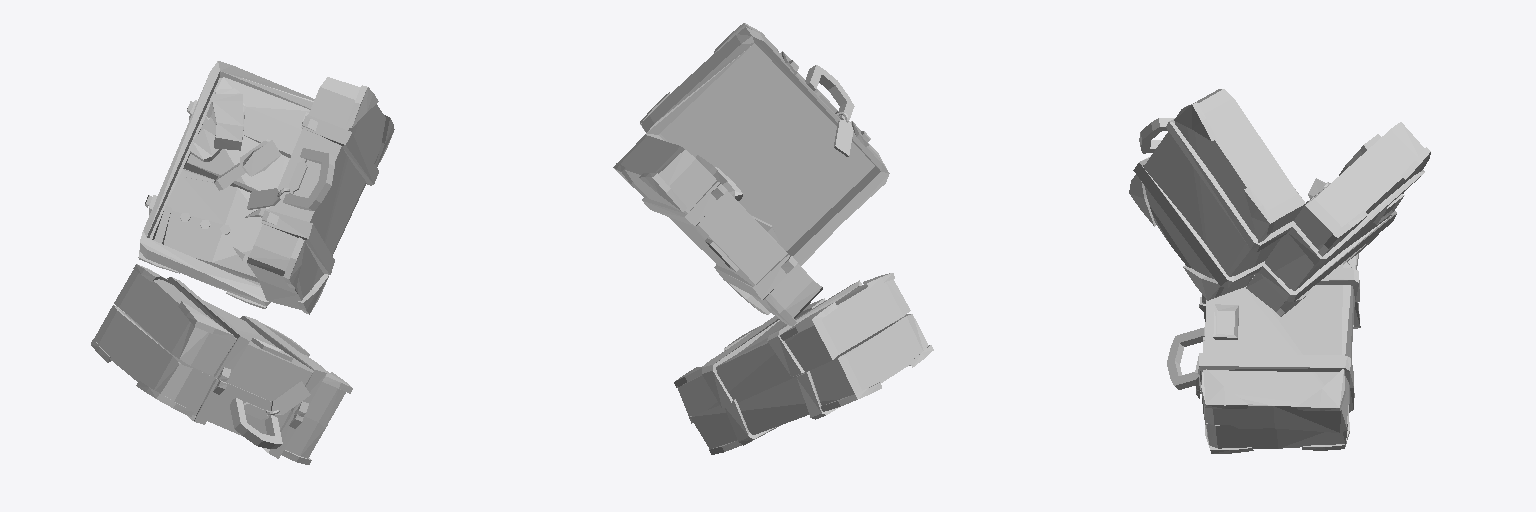
The picture shows the model from 3 angles: view 1: azimuth 30°, elevation 25°; view 2: azimuth 150°, elevation 25°; view 3: azimuth 270°, elevation 25°; orthographic projection.
Parts seen in each view (by area): view 1: briefcase.001_group[number redacted].001; view 2: briefcase.001_group[number redacted].001; view 3: briefcase.001_group[number redacted].001.
Part boxes in pixels (x1,y1,x2,y2): briefcase.001_group[number redacted].001: (91, 61, 394, 464); briefcase.001_group[number redacted].001: (613, 23, 933, 454); briefcase.001_group[number redacted].001: (1129, 89, 1430, 453).
Size of the model in its own units: 1.83 by 2.47 by 1.79.